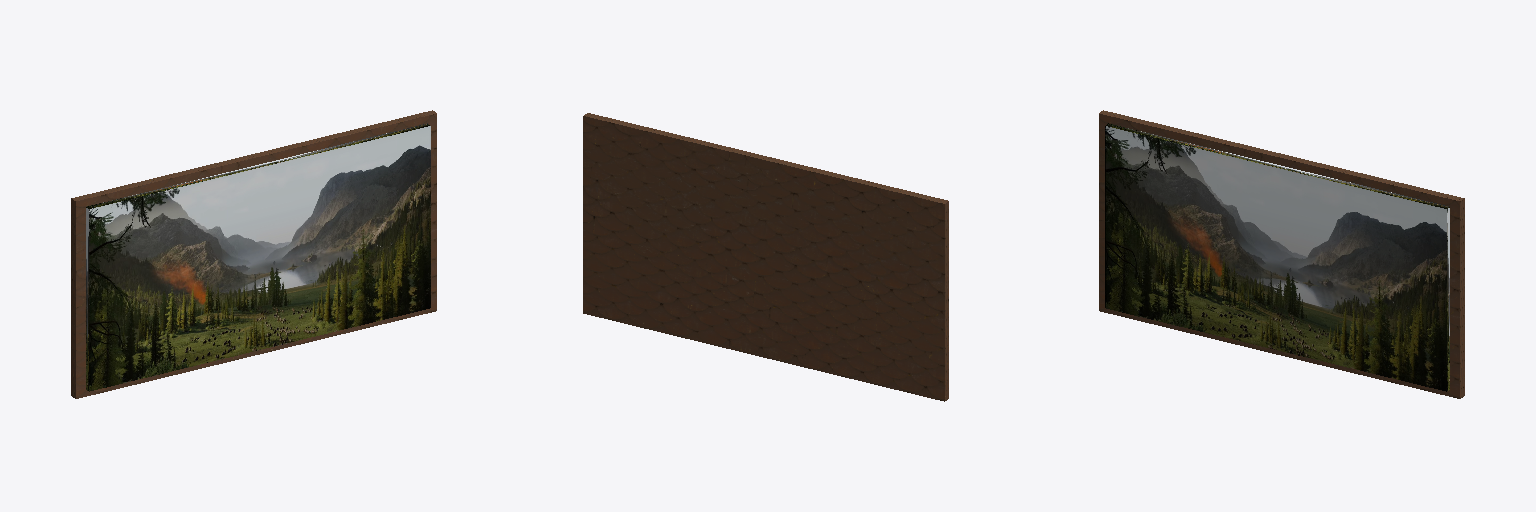
3 views of the same model, side by side, from view 1: azimuth 30°, elevation 25°; view 2: azimuth 150°, elevation 25°; view 3: azimuth 330°, elevation 25° (orthographic).
Visible parts, largest first — view 1: Box002, Box001; view 2: Box001; view 3: Box002, Box001.
Part boxes in pixels (x1,y1,x2,y2): Box002: (86, 123, 430, 391); Box001: (71, 110, 436, 398); Box001: (583, 113, 948, 401); Box002: (1105, 123, 1449, 391); Box001: (1099, 110, 1464, 398).
Size of the model in its own units: 57.36 by 30 by 2.12.
Materials: 2 (2 with a texture image).